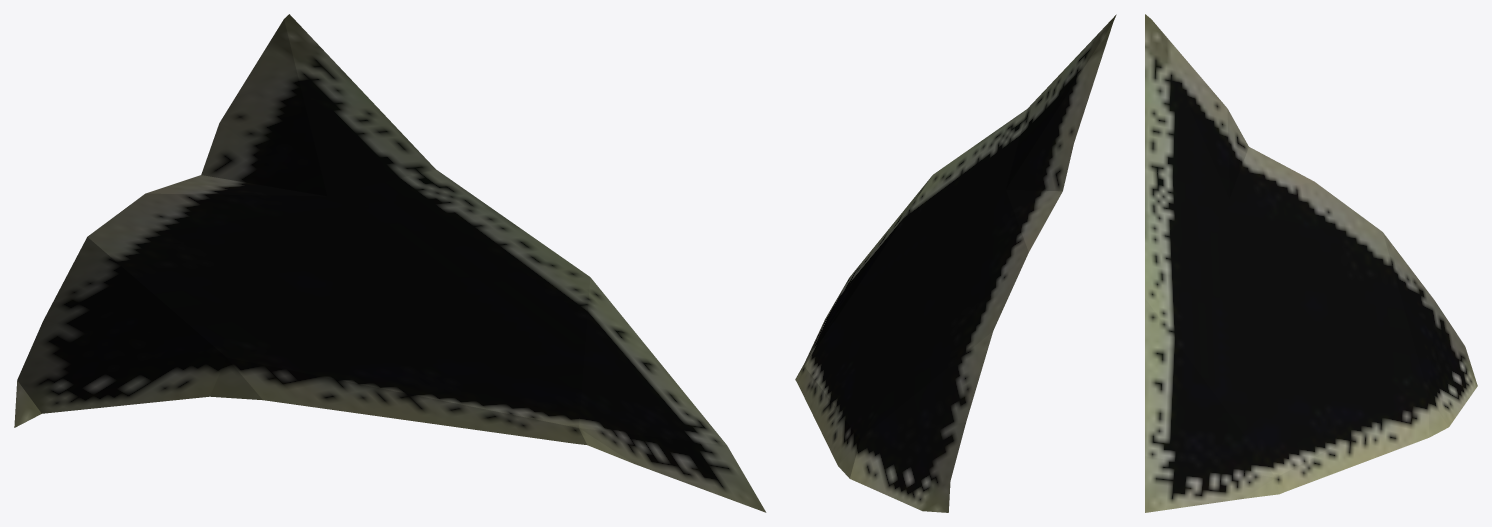
3 renders of one model, left to right at view 1: azimuth 30°, elevation 25°; view 2: azimuth 150°, elevation 25°; view 3: azimuth 270°, elevation 25°, orthographic. The views are drawn at different scales.
Size of the model in its own units: 2.42 by 2.98 by 2.48.
1 material, 1 textured.
